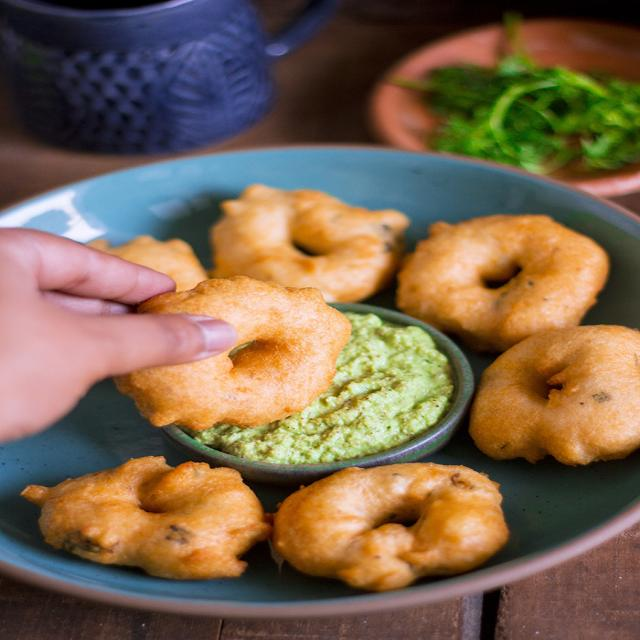MEDU VADA: (83, 270, 354, 426), (268, 460, 506, 588), (391, 212, 610, 337), (40, 460, 257, 581), (475, 317, 639, 460), (208, 185, 405, 302)
